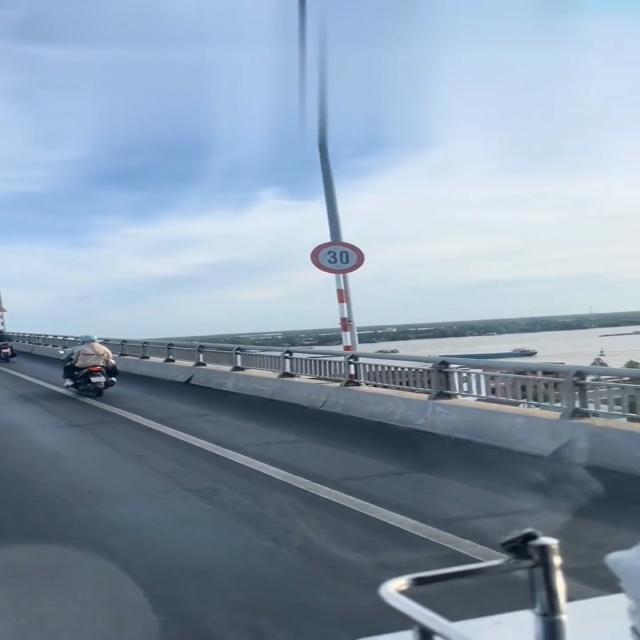127-toc-do-toi-da-30: (309, 242, 366, 274)
